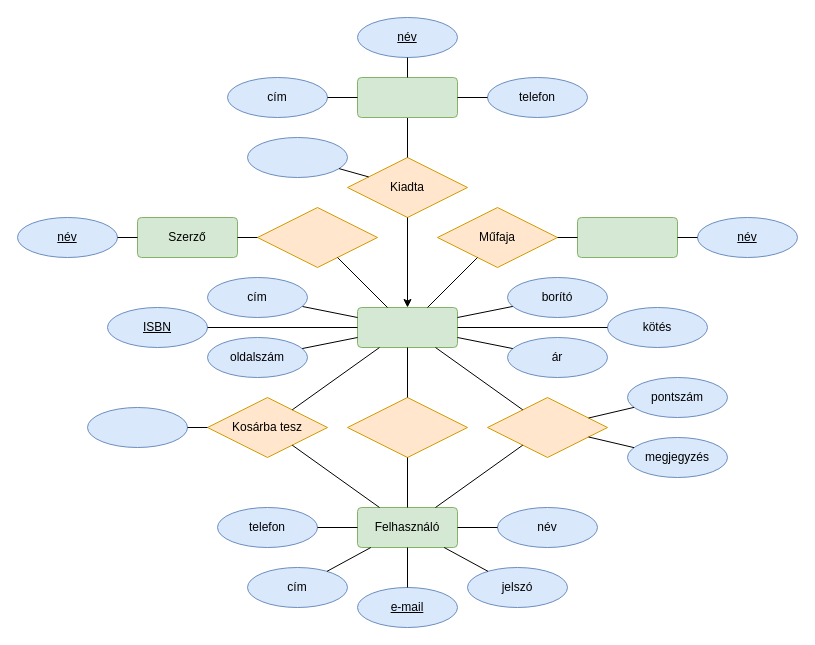
The diagram is 815 pixels wide and 645 high, and some of its shapes have lost their labels. The centre of each missing label's shape, as x and y in pixels:
darabszám: (x=137, y=427)
Kedvence: (x=407, y=427)
Kiadó: (x=407, y=97)
Könyv: (x=407, y=327)
mikor: (x=297, y=157)
Műfaj: (x=627, y=237)
Szerzője: (x=317, y=237)
Értékelés: (x=547, y=427)
